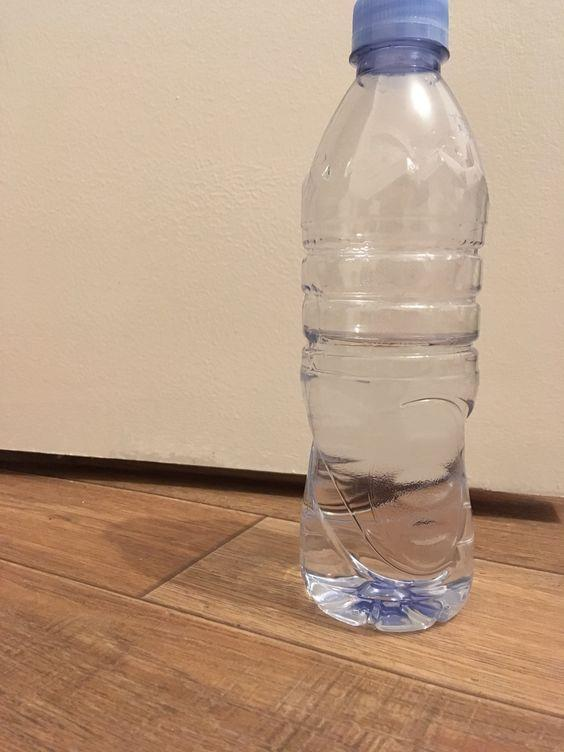HDPE: (348, 0, 453, 53)
PETE: (294, 42, 491, 638)
